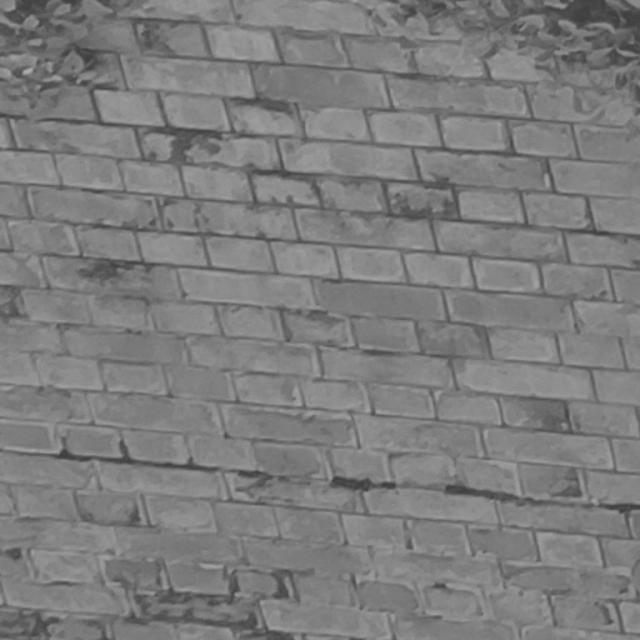crack: (51, 437, 640, 516)
